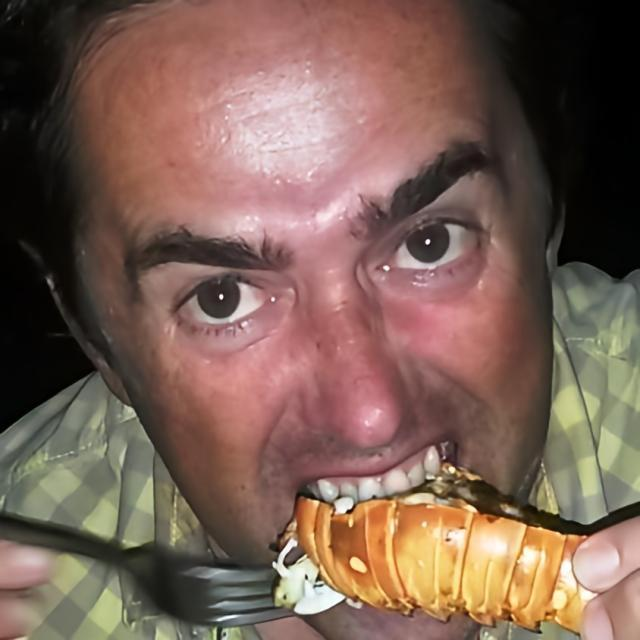anger: (110, 53, 561, 640)
